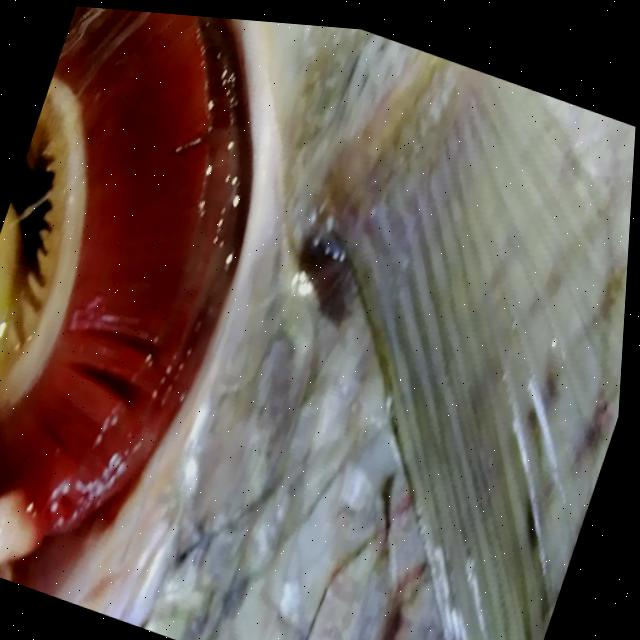Fresh: (0, 0, 327, 617)
